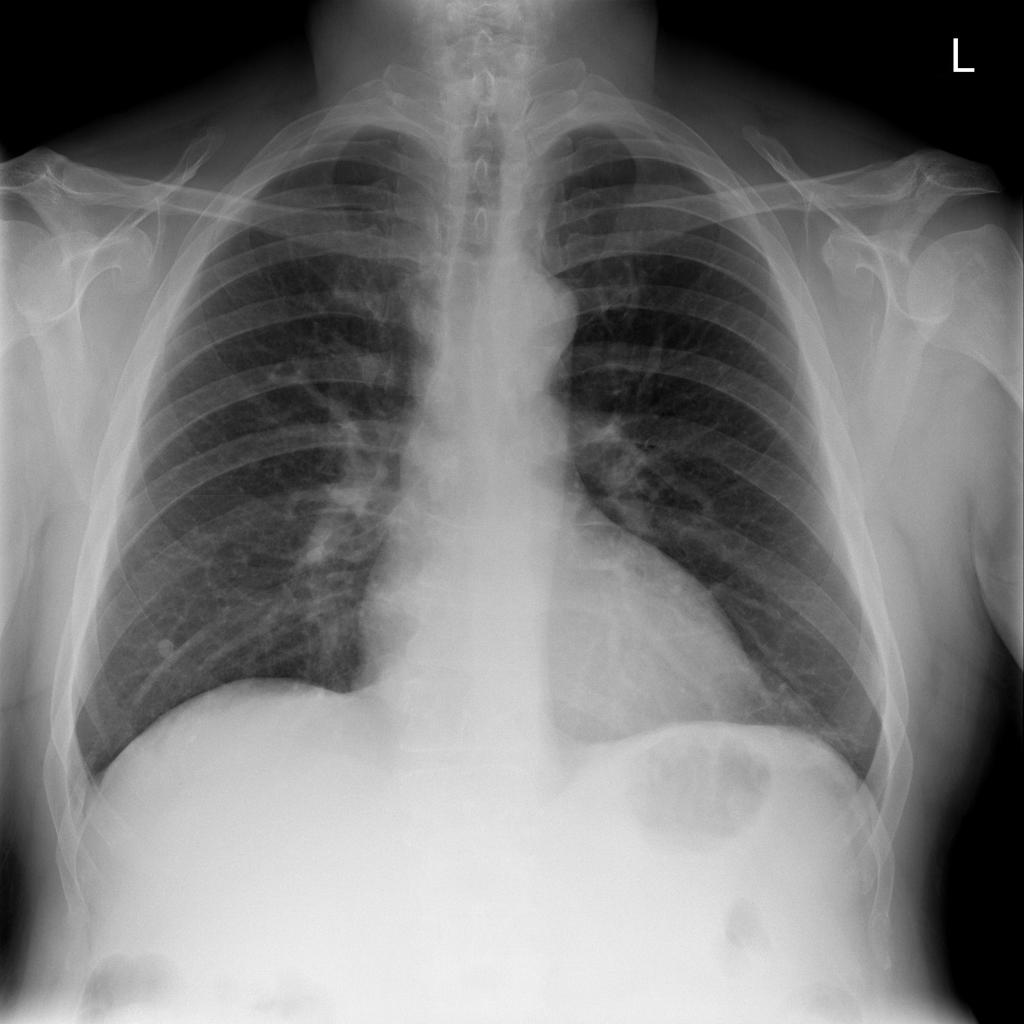nodule: (142, 624, 193, 673)
